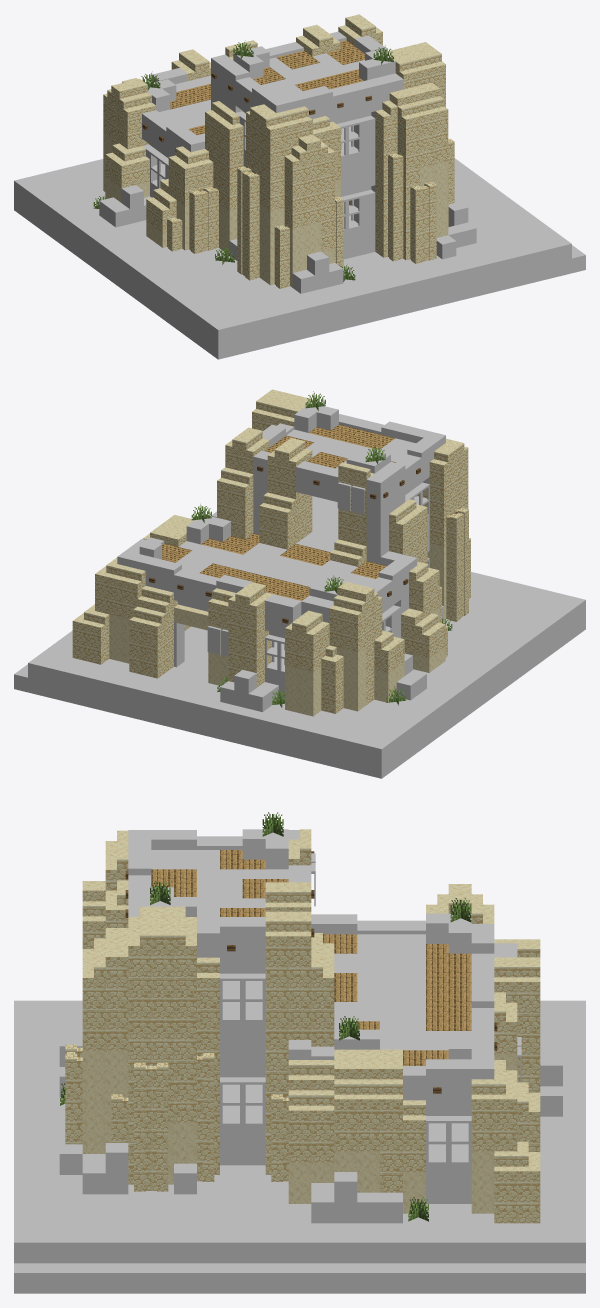
The model's file is building.fbx.
The picture shows the model from 3 angles, top to bottom: view 1: azimuth 30°, elevation 25°; view 2: azimuth 150°, elevation 25°; view 3: azimuth 270°, elevation 25°; orthographic projection. The views are drawn at different scales.
Visible parts, largest first — view 1: 4_Biome_Assets_[FREE]__3_1_19_to_28_319_43; view 2: 4_Biome_Assets_[FREE]__3_1_19_to_28_319_43; view 3: 4_Biome_Assets_[FREE]__3_1_19_to_28_319_43.
Part boxes in pixels (<box>): 4_Biome_Assets_[FREE]__3_1_19_to_28_319_43: <box>14,14,585,359</box>; 4_Biome_Assets_[FREE]__3_1_19_to_28_319_43: <box>14,389,585,778</box>; 4_Biome_Assets_[FREE]__3_1_19_to_28_319_43: <box>14,812,585,1293</box>.
Size of the model in its own units: 2600 by 1500 by 2500.
